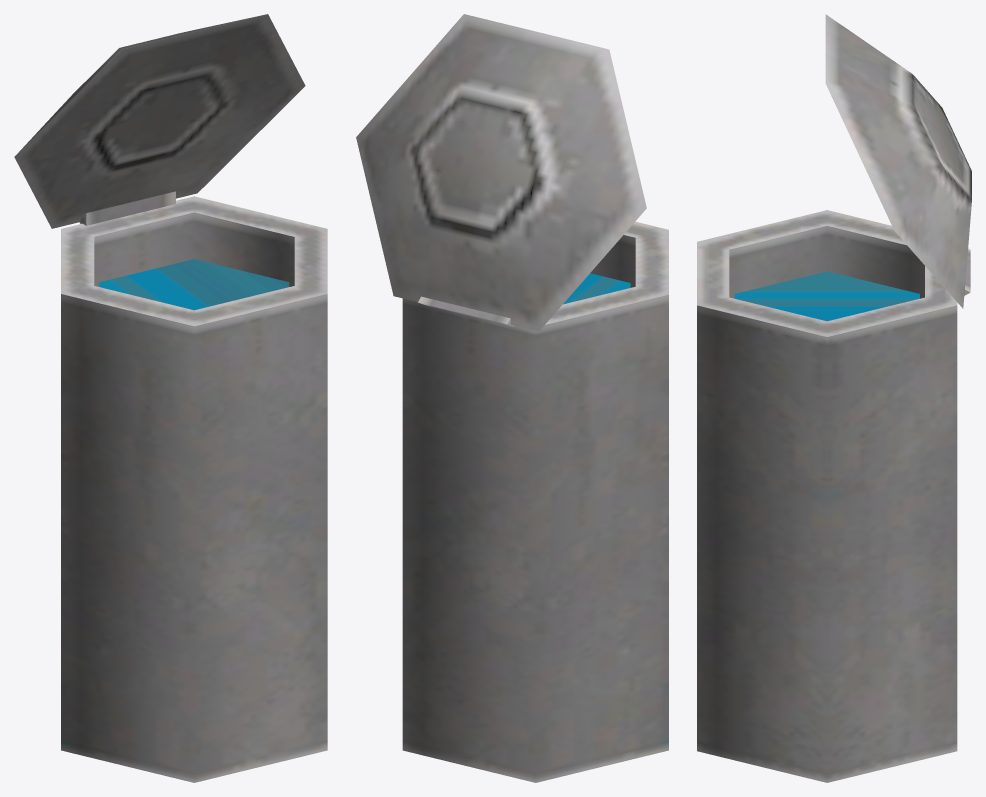
File: eqp_comp_drink.fbx
The picture shows the model from 3 angles, left to right: view 1: azimuth 30°, elevation 25°; view 2: azimuth 150°, elevation 25°; view 3: azimuth 270°, elevation 25°; orthographic projection. The views are drawn at different scales.
Visible parts, largest first — view 1: mesh_node; view 2: mesh_node; view 3: mesh_node.
Boxes of the visible parts, x1=… form: mesh_node: x1=14, y1=14, x2=327, y2=782; mesh_node: x1=356, y1=14, x2=668, y2=782; mesh_node: x1=697, y1=14, x2=971, y2=782.
Size of the model in its own units: 0.1043 by 0.235 by 0.0873.
